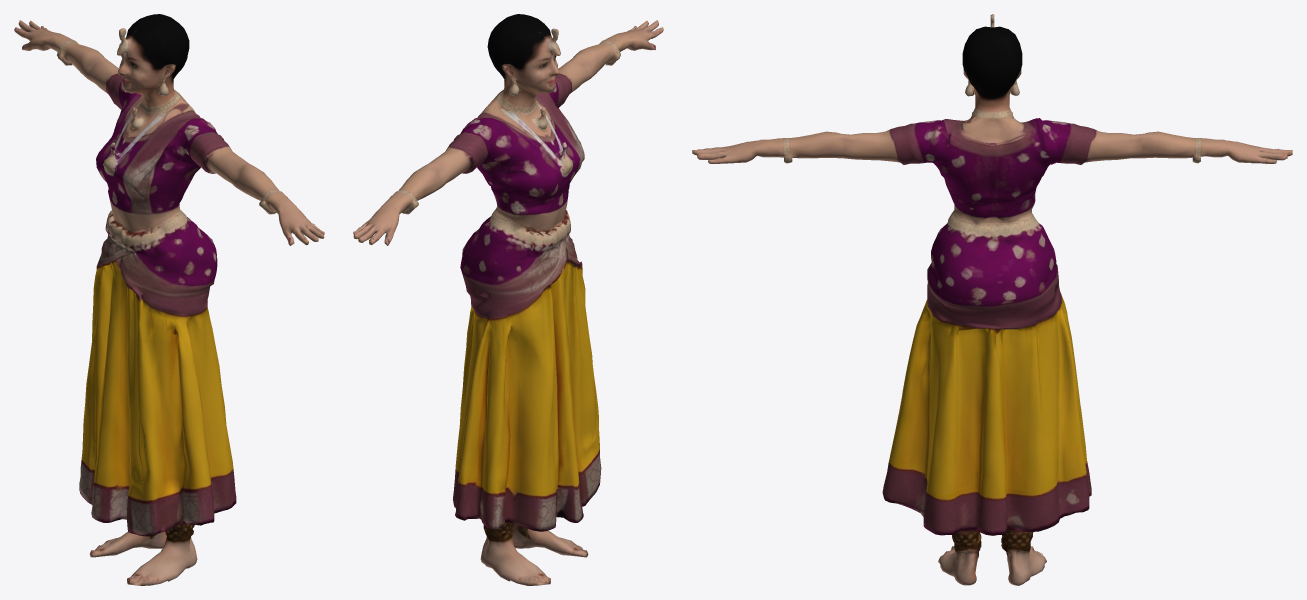
The model's file is Dancer.glb.
The picture shows the model from 3 angles, left to right: view 1: azimuth 30°, elevation 25°; view 2: azimuth 150°, elevation 25°; view 3: azimuth 270°, elevation 25°; orthographic projection.
Visible parts, largest first — view 1: tripo_node_40e2bb47-8406-45b3-a734-a4ecbd810f10; view 2: tripo_node_40e2bb47-8406-45b3-a734-a4ecbd810f10; view 3: tripo_node_40e2bb47-8406-45b3-a734-a4ecbd810f10.
Part boxes in pixels (x1,y1,x2,y2): tripo_node_40e2bb47-8406-45b3-a734-a4ecbd810f10: (14, 14, 324, 585); tripo_node_40e2bb47-8406-45b3-a734-a4ecbd810f10: (353, 14, 663, 585); tripo_node_40e2bb47-8406-45b3-a734-a4ecbd810f10: (692, 14, 1292, 585).
Size of the model in its own units: 0.2285 by 0.998 by 0.998.
Materials: 1 (1 with a texture image).
